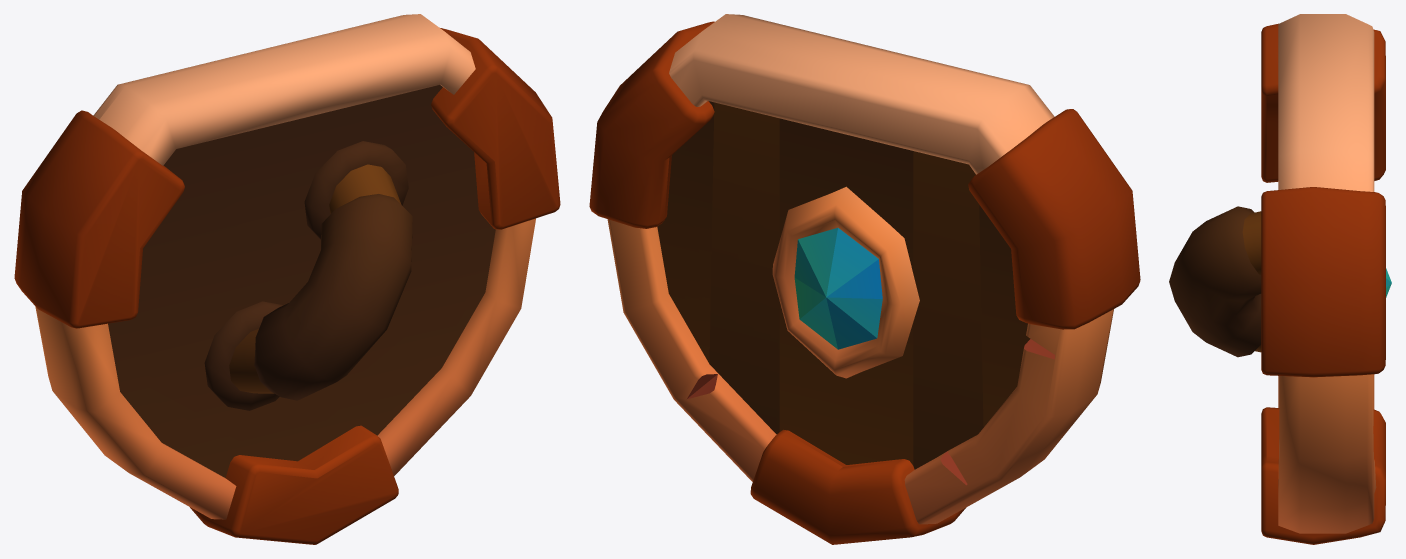
File: Shield_V1_1.fbx
3 renders of one model, left to right at view 1: azimuth 30°, elevation 25°; view 2: azimuth 150°, elevation 25°; view 3: azimuth 270°, elevation 25°, orthographic. The views are drawn at different scales.
Visible parts, largest first — view 1: Shield_V1_1; view 2: Shield_V1_1; view 3: Shield_V1_1.
Part boxes in pixels (x1,y1,x2,y2): Shield_V1_1: (14, 14, 560, 544); Shield_V1_1: (589, 14, 1140, 544); Shield_V1_1: (1169, 14, 1391, 544).
Bounding box in the file's own units: 0.4913 × 0.4364 × 0.1956.
